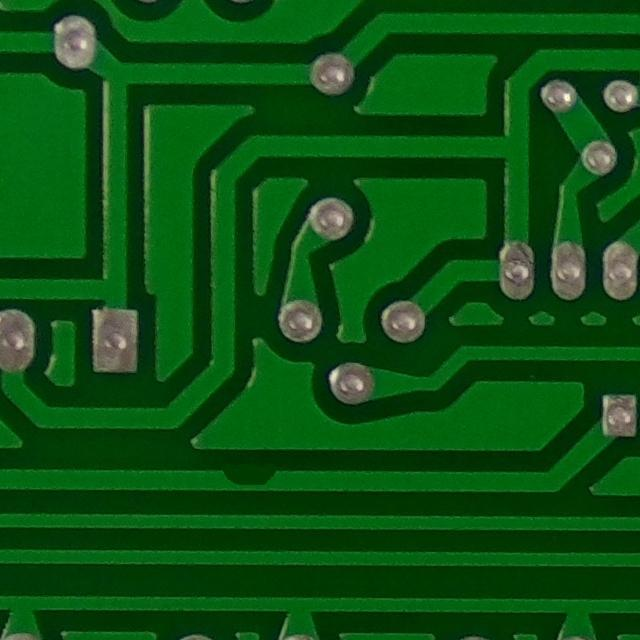mouse_bite: (211, 454, 289, 504)
